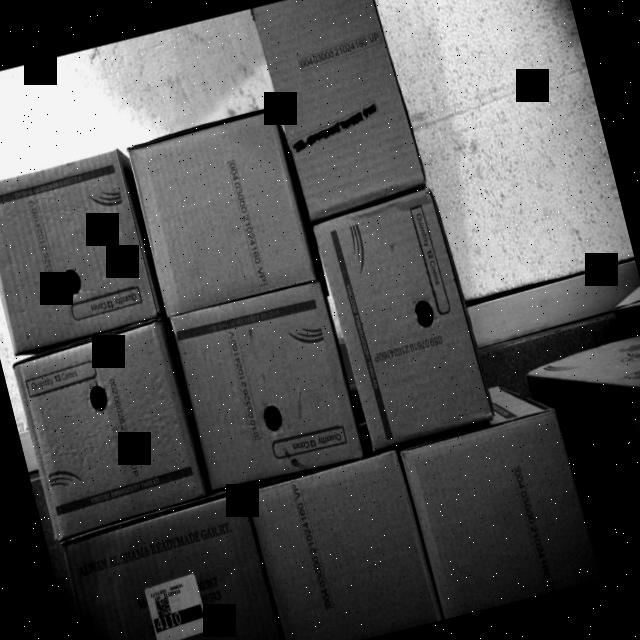box: (312, 189, 494, 452), (165, 274, 368, 498), (122, 102, 320, 326), (236, 432, 446, 640), (402, 402, 604, 618), (11, 328, 209, 536), (252, 0, 433, 222), (57, 481, 282, 640), (0, 148, 161, 353), (337, 394, 346, 398)
